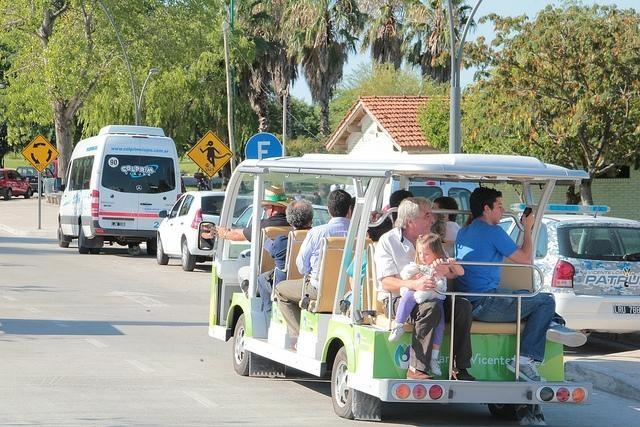car: (535, 205, 640, 339), (156, 191, 224, 271), (0, 168, 32, 200), (16, 166, 38, 189), (41, 160, 58, 178)
truck: (54, 123, 184, 257)
